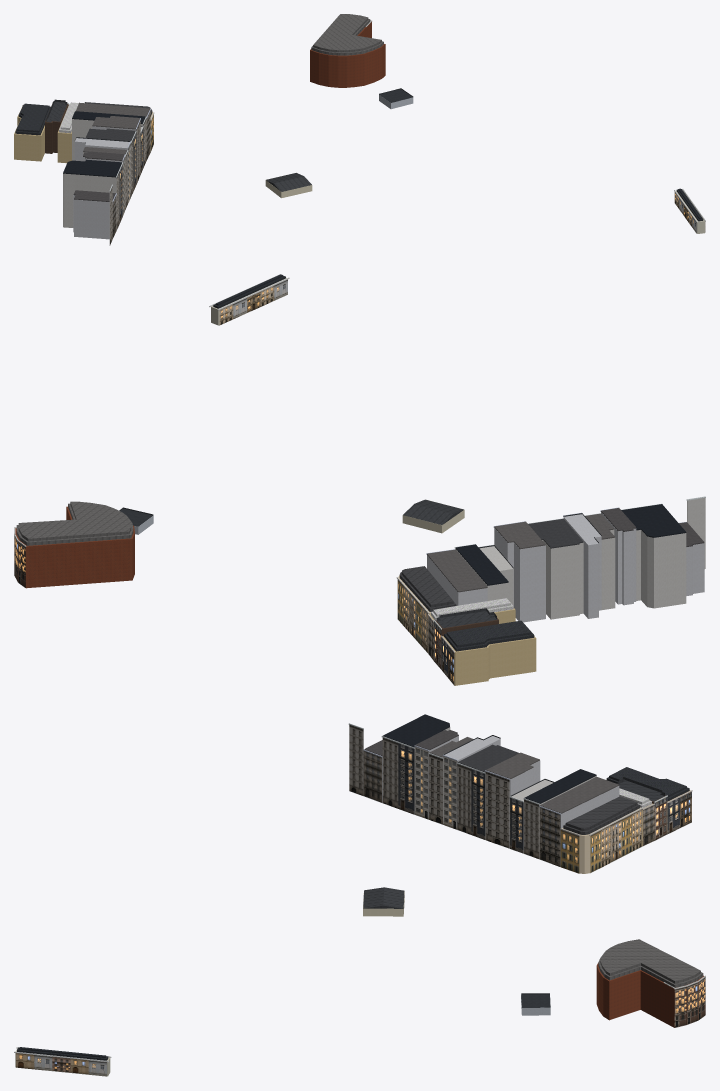
The picture shows the model from 3 angles, top to bottom: view 1: azimuth 30°, elevation 25°; view 2: azimuth 150°, elevation 25°; view 3: azimuth 270°, elevation 25°; orthographic projection. The views are drawn at different scales.
Parts seen in each view (by area): view 1: bldg_781758232, bldg_781758232_roof_b, bldg_497728439, bldg_497728438, bldg_497728471, bldg_497728438_roof, bldg_497728471_roof_b, bldg_497728470_roof, bldg_497728435, bldg_1084298468_roof, bldg_497728433_roof, bldg_497728434_roof (+7 smaller); view 2: bldg_781758232, bldg_497728438, bldg_497728471, bldg_781758232_roof_b, bldg_497728433, bldg_497728434, bldg_497728435, bldg_497728437, bldg_497728474_facade1, bldg_497728438_roof, bldg_497728470_roof, bldg_497728471_roof_b (+12 smaller); view 3: bldg_781758232, bldg_781758232_roof_b, bldg_497728438_facade0, bldg_497728474_facade1, bldg_497728434_facade0, bldg_497728433_facade0, bldg_790267020_facade0, bldg_497728470_facade0, bldg_497728470_roof, bldg_497728438_roof, bldg_497728474_roof_b, bldg_497728435_facade0 (+16 smaller).
Part boxes in pixels (x1,y1,x2,y2): bldg_781758232: (310, 22, 385, 87); bldg_781758232_roof_b: (313, 14, 381, 52); bldg_497728439: (73, 195, 109, 239); bldg_497728438: (63, 173, 115, 227); bldg_497728471: (14, 108, 44, 161); bldg_497728438_roof: (63, 159, 121, 177); bldg_497728471_roof_b: (17, 103, 49, 132); bldg_497728470_roof: (76, 102, 149, 116); bldg_497728435: (74, 138, 129, 161); bldg_1084298468_roof: (266, 173, 311, 191); bldg_497728433_roof: (92, 116, 139, 129); bldg_497728434_roof: (85, 128, 135, 141); bldg_781758232: (15, 506, 134, 588); bldg_497728438: (636, 530, 686, 608); bldg_497728471: (443, 636, 536, 685); bldg_781758232_roof_b: (18, 501, 131, 541); bldg_497728433: (494, 528, 545, 622); bldg_497728434: (542, 540, 583, 619); bldg_497728435: (563, 514, 601, 618); bldg_497728437: (601, 512, 636, 605); bldg_497728474_facade1: (396, 577, 428, 653); bldg_497728438_roof: (621, 504, 686, 537); bldg_497728470_roof: (427, 549, 487, 592); bldg_497728471_roof_b: (446, 620, 531, 647); bldg_781758232: (596, 963, 703, 1027); bldg_781758232_roof_b: (600, 939, 700, 983); bldg_497728438_facade0: (381, 736, 414, 814); bldg_497728474_facade1: (589, 807, 643, 873); bldg_497728434_facade0: (456, 762, 485, 839); bldg_497728433_facade0: (485, 770, 510, 848); bldg_790267020_facade0: (14, 1051, 108, 1076); bldg_497728470_facade0: (539, 805, 561, 866); bldg_497728470_roof: (540, 776, 619, 813); bldg_497728438_roof: (383, 714, 449, 747); bldg_497728474_roof_b: (565, 796, 637, 830); bldg_497728435_facade0: (442, 754, 457, 829).
Size of the model in its own units: 263 by 29.06 by 260.
35 materials, 21 textured.
